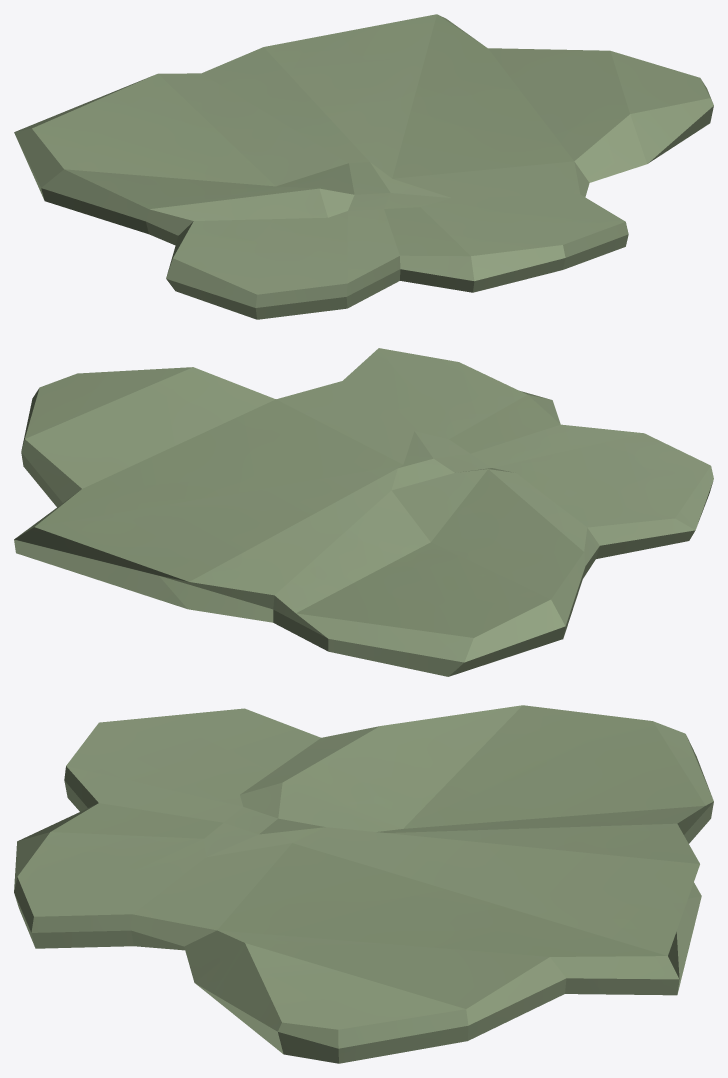
The model's file is grass_cluster_1.glb.
The picture shows the model from 3 angles, top to bottom: view 1: azimuth 30°, elevation 25°; view 2: azimuth 150°, elevation 25°; view 3: azimuth 270°, elevation 25°; orthographic projection. The views are drawn at different scales.
Parts seen in each view (by area): view 1: grass_cluster_1; view 2: grass_cluster_1; view 3: grass_cluster_1.
Boxes of the visible parts, left/top/right/bottom form: grass_cluster_1: left=14, top=14, right=713, bottom=319; grass_cluster_1: left=14, top=348, right=713, bottom=676; grass_cluster_1: left=14, top=705, right=713, bottom=1063.
Size of the model in its own units: 2.98 by 0.2842 by 2.51.
1 material, 1 textured.
